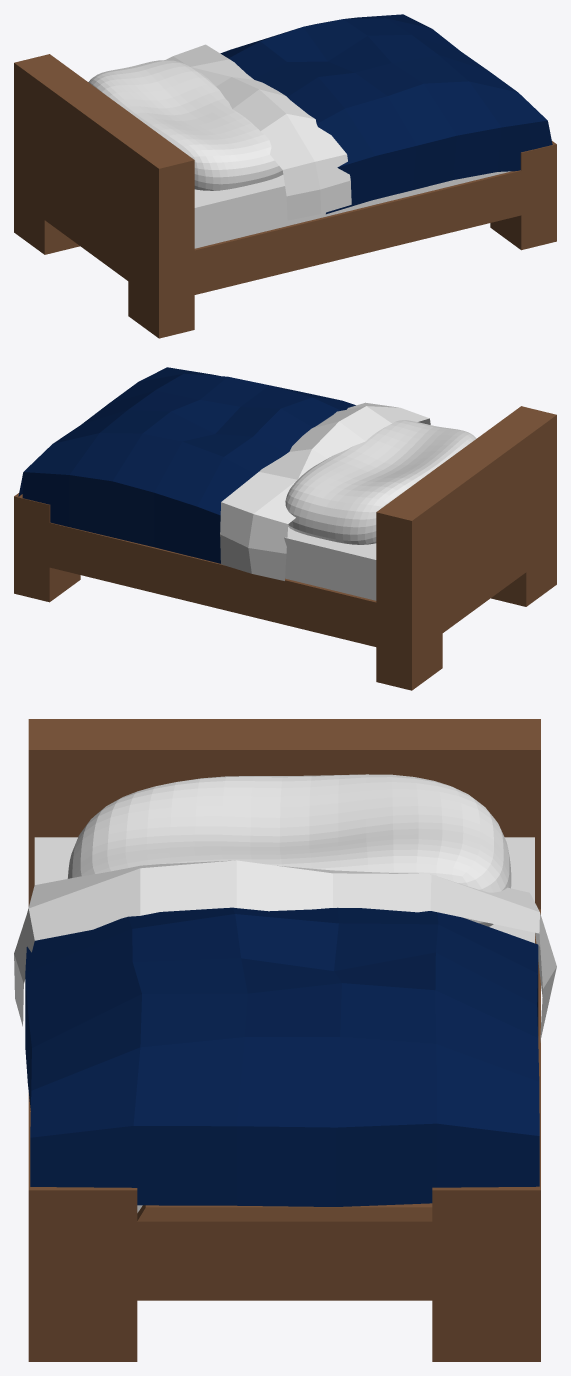
File: cama (1).fbx
The picture shows the model from 3 angles, top to bottom: view 1: azimuth 30°, elevation 25°; view 2: azimuth 150°, elevation 25°; view 3: azimuth 270°, elevation 25°; orthographic projection. The views are drawn at different scales.
Visible parts, largest first — view 1: Cube, Plane, Cube.002, Plane.001, Cube.001; view 2: Cube, Plane, Cube.002, Plane.001, Cube.001; view 3: Plane, Cube, Cube.002, Plane.001, Cube.001.
Part boxes in pixels (<box>): Cube: <box>14,54,556,338</box>; Plane: <box>220,14,552,214</box>; Cube.002: <box>88,60,283,190</box>; Plane.001: <box>165,44,351,220</box>; Cube.001: <box>194,171,510,248</box>; Cube: <box>14,406,556,690</box>; Plane: <box>18,367,355,563</box>; Cube.002: <box>285,420,476,544</box>; Plane.001: <box>220,402,430,580</box>; Cube.001: <box>284,527,376,600</box>; Plane: <box>25,907,539,1206</box>; Cube: <box>28,719,540,1361</box>; Cube.002: <box>67,774,511,926</box>; Plane.001: <box>14,860,556,1042</box>; Cube.001: <box>34,837,534,1212</box>.
Bounding box in the file's own units: 237 × 96.58 × 158.
